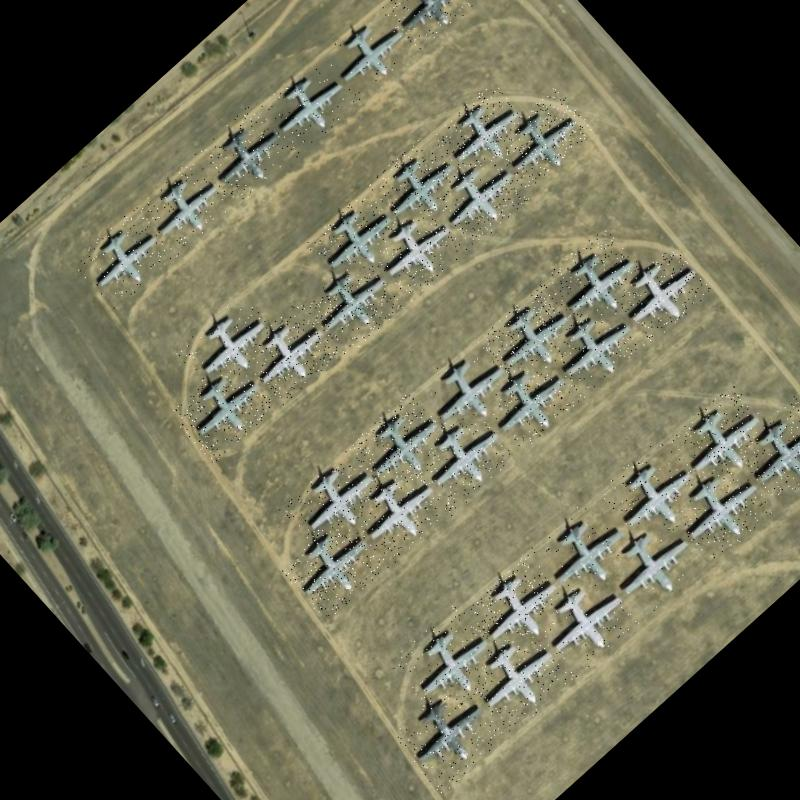A2: (388, 677, 507, 795), (400, 400, 518, 518), (388, 603, 506, 720), (538, 223, 654, 338), (596, 435, 712, 550), (525, 565, 640, 679), (458, 621, 573, 735), (461, 552, 575, 664), (664, 382, 776, 493), (342, 458, 454, 568), (664, 454, 776, 564), (172, 290, 282, 399), (530, 495, 640, 604), (593, 511, 703, 620), (343, 390, 454, 498), (412, 336, 521, 444), (168, 356, 276, 463), (538, 293, 645, 400), (254, 52, 362, 158), (278, 448, 386, 554), (280, 515, 386, 622), (132, 153, 239, 258), (488, 86, 594, 190), (191, 102, 296, 206), (430, 80, 535, 184), (427, 144, 532, 248), (301, 253, 406, 357), (237, 300, 342, 404), (70, 208, 174, 311), (476, 286, 580, 389), (365, 199, 468, 302), (305, 189, 407, 290), (479, 350, 580, 450), (612, 244, 712, 344), (366, 134, 466, 233), (319, 5, 416, 101), (731, 392, 800, 504), (371, 0, 478, 53)
